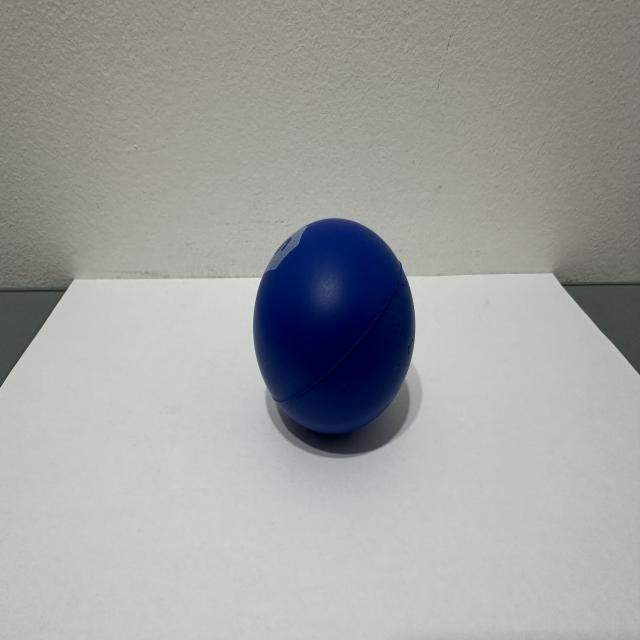blue_ball: (229, 23, 515, 581)
